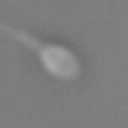normal: (1, 15, 42, 50)
